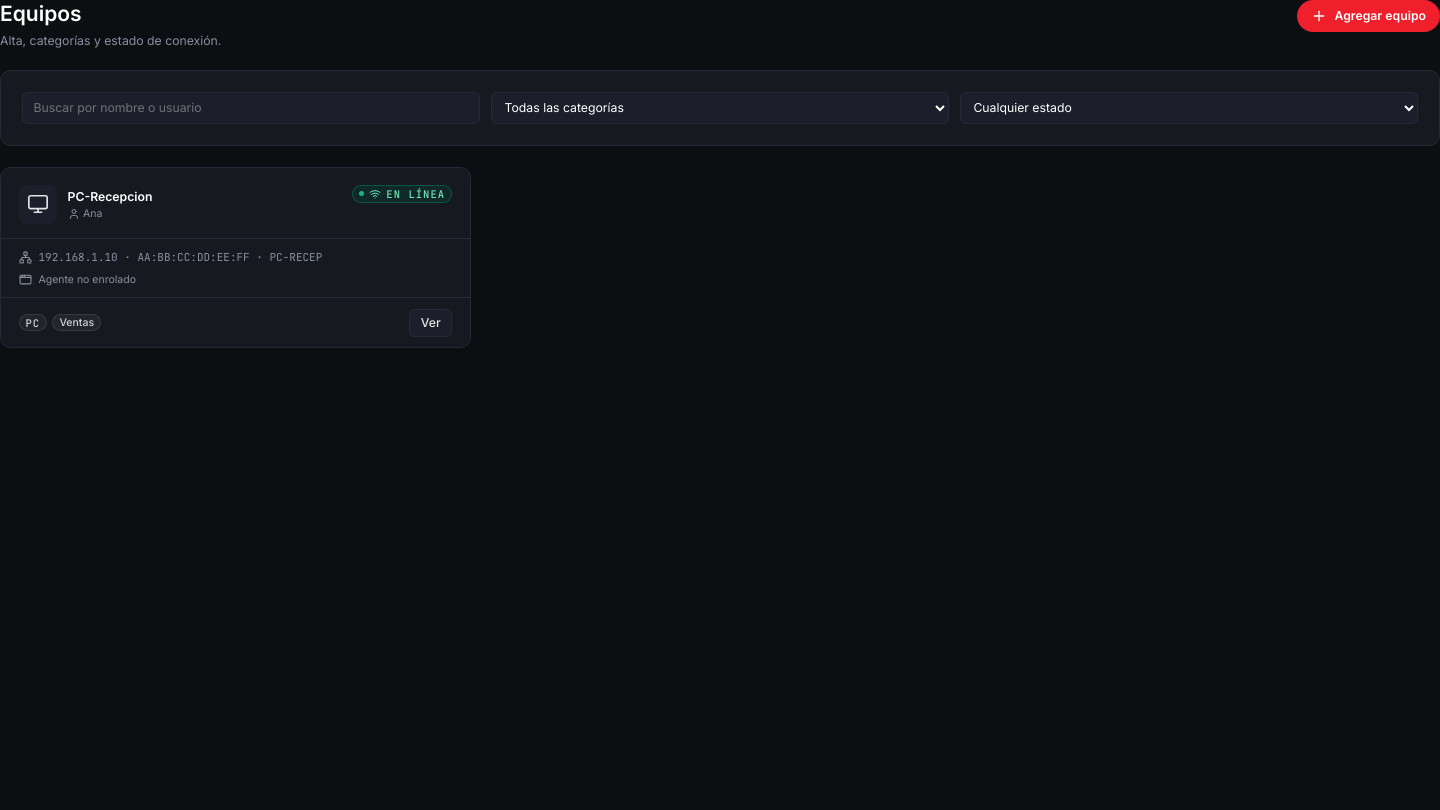
agrega una nueva aplicación a la matriz de control
The width and height of the screenshot is (1440, 810).
Later steps or results of the test are not shown.
Expected: the text "PC-Recepcion" is shown, x1=68 y1=188 x2=152 y2=205
Click the button "Ver".
click(431, 322)  # box x1=409 y1=308 x2=452 y2=336
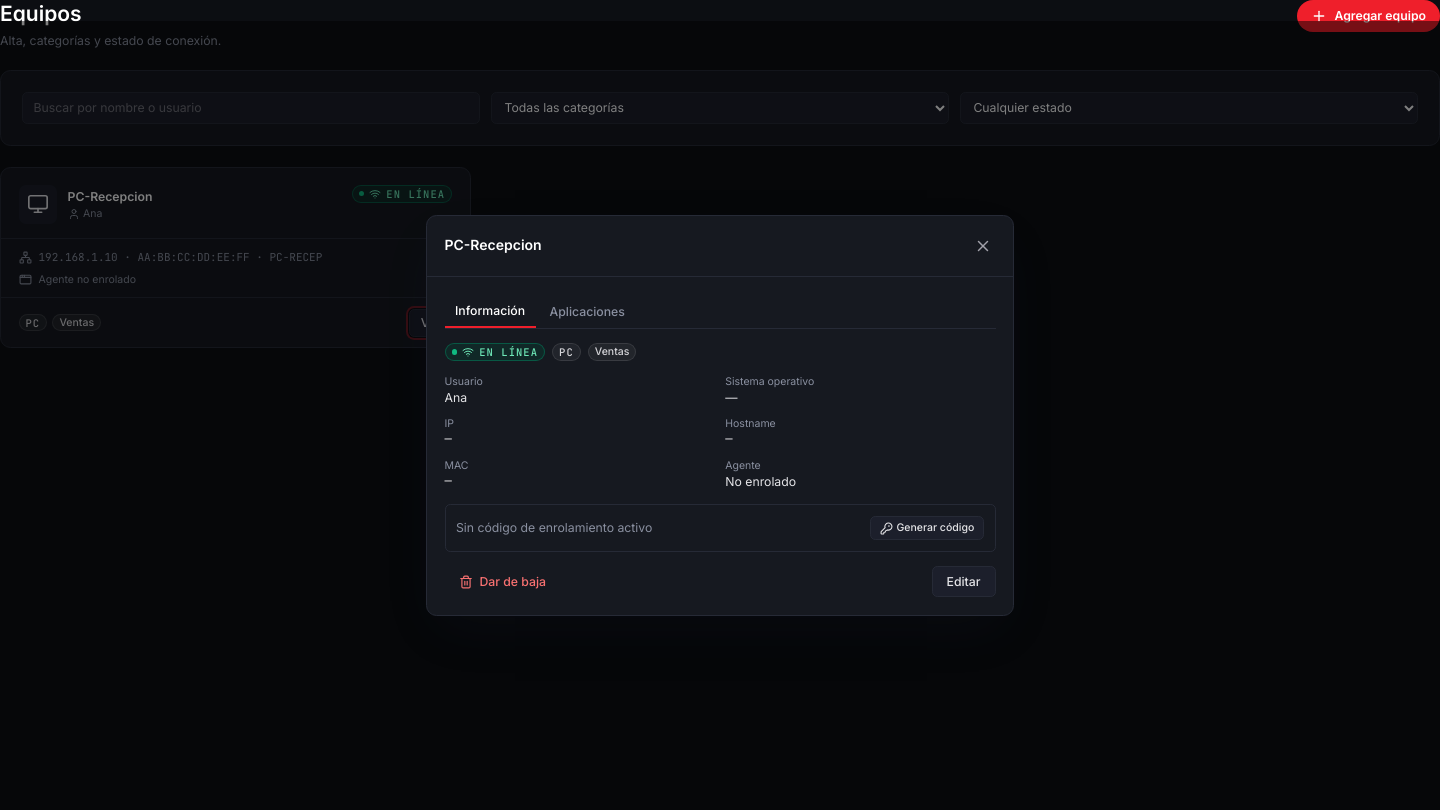
Click the button "Aplicaciones".
click(587, 312)  # box x1=539 y1=295 x2=635 y2=328
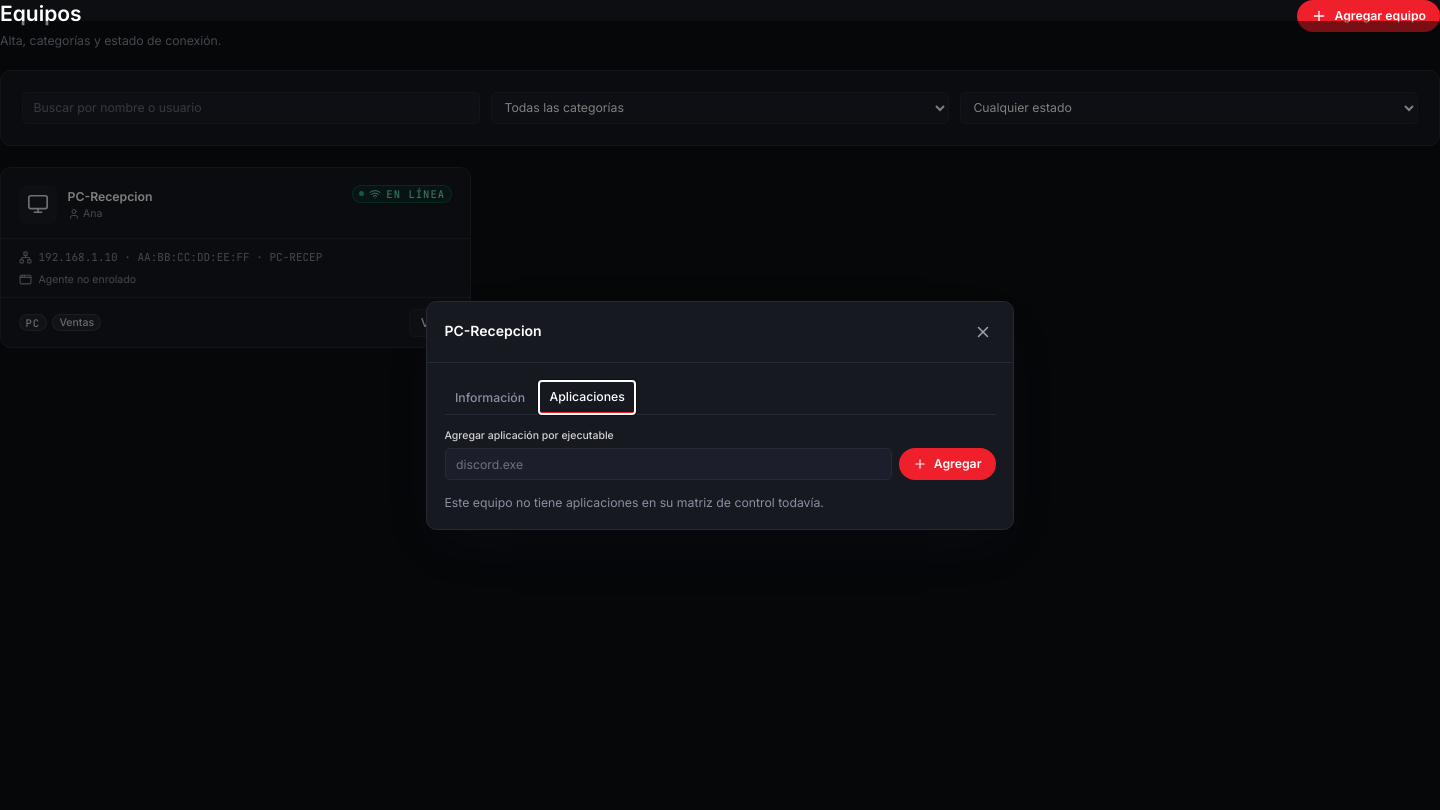
Expected: the text "no tiene aplicaciones" is shown, x1=444 y1=495 x2=824 y2=510
